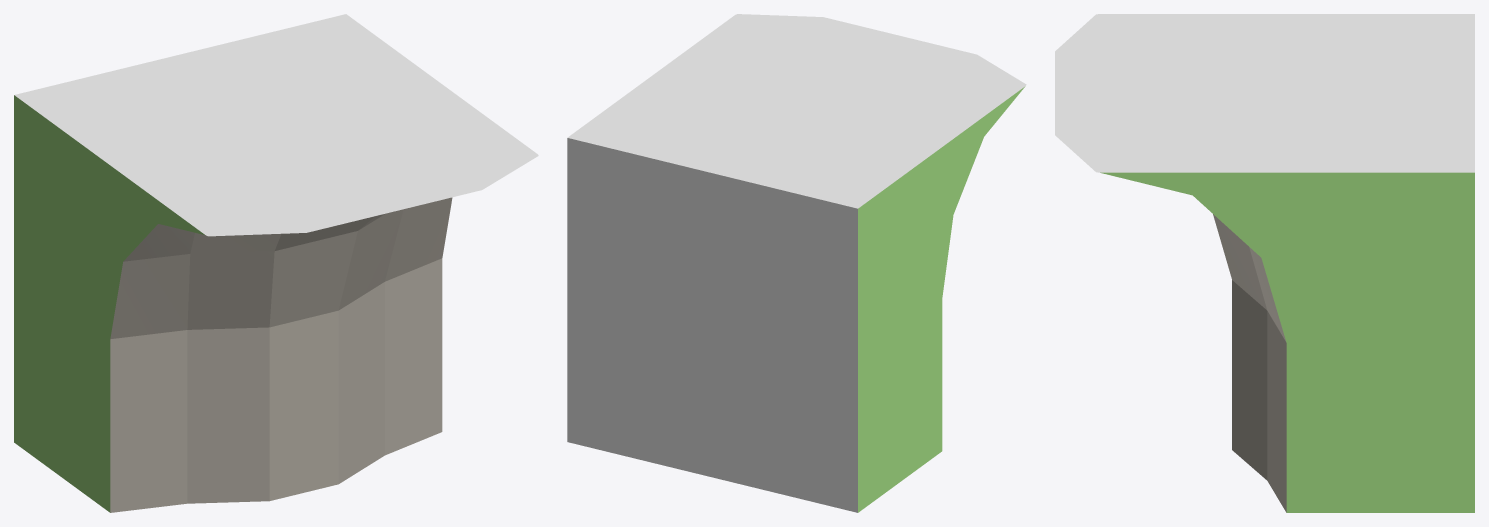
The model's file is Wall_Straight_Deformed_Convex_2x2_Top.glb.
The picture shows the model from 3 angles, left to right: view 1: azimuth 30°, elevation 25°; view 2: azimuth 150°, elevation 25°; view 3: azimuth 270°, elevation 25°; orthographic projection. The views are drawn at different scales.
Parts seen in each view (by area): view 1: Wall_Straight_Deformed_Convex_2x2_Top; view 2: Wall_Straight_Deformed_Convex_2x2_Top; view 3: Wall_Straight_Deformed_Convex_2x2_Top.
Boxes of the visible parts, x1,y1,x2,y2 form: Wall_Straight_Deformed_Convex_2x2_Top: (14, 14, 538, 512); Wall_Straight_Deformed_Convex_2x2_Top: (567, 14, 1026, 512); Wall_Straight_Deformed_Convex_2x2_Top: (1055, 14, 1474, 512).
Size of the model in its own units: 200 by 200 by 224.
